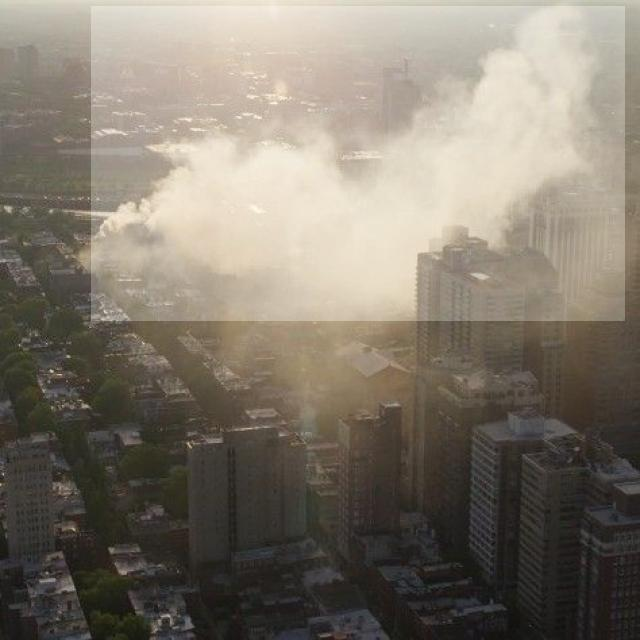Smoke: (91, 6, 625, 321)
